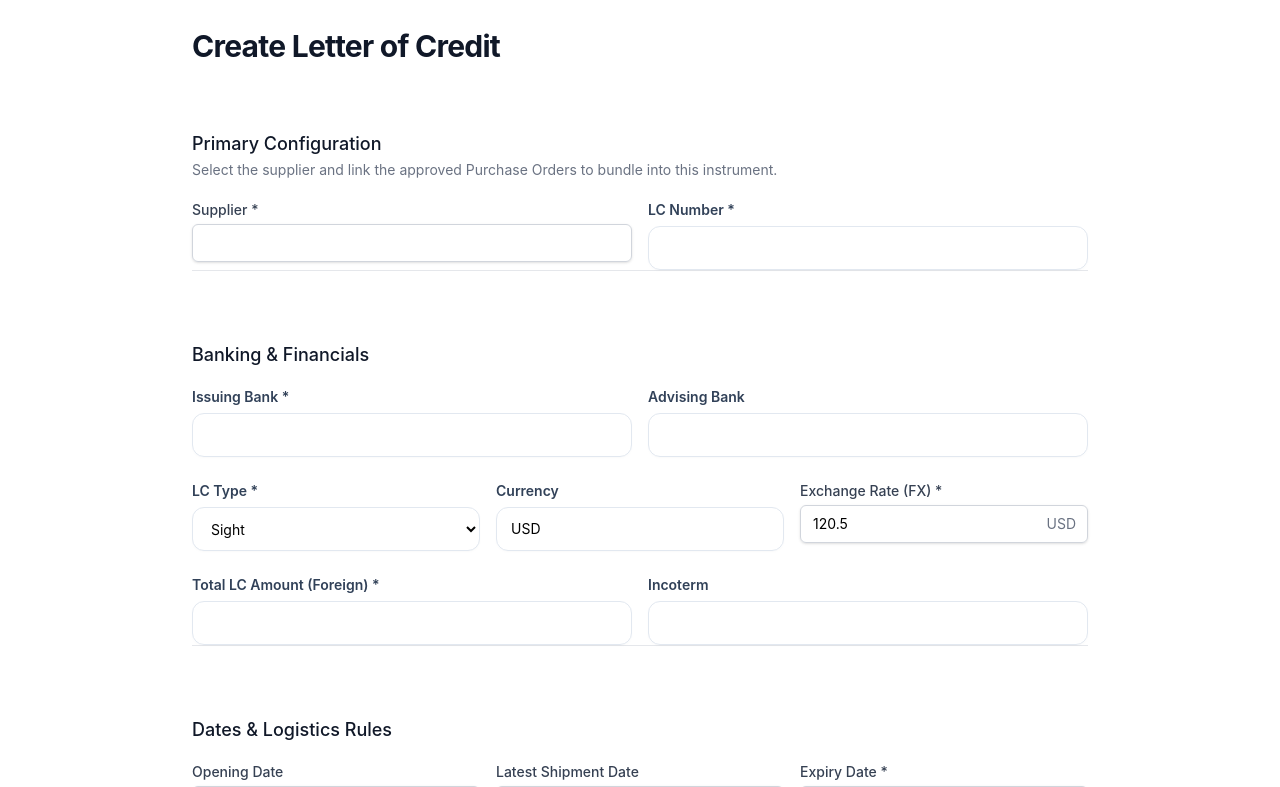
it: LetterOfCreditForm › keeps a single selected PO as an array and calculates its amount
Type "sup-1" into the field labelled "Supplier *" at {"x": 412, "y": 243}, box [192, 224, 632, 262]
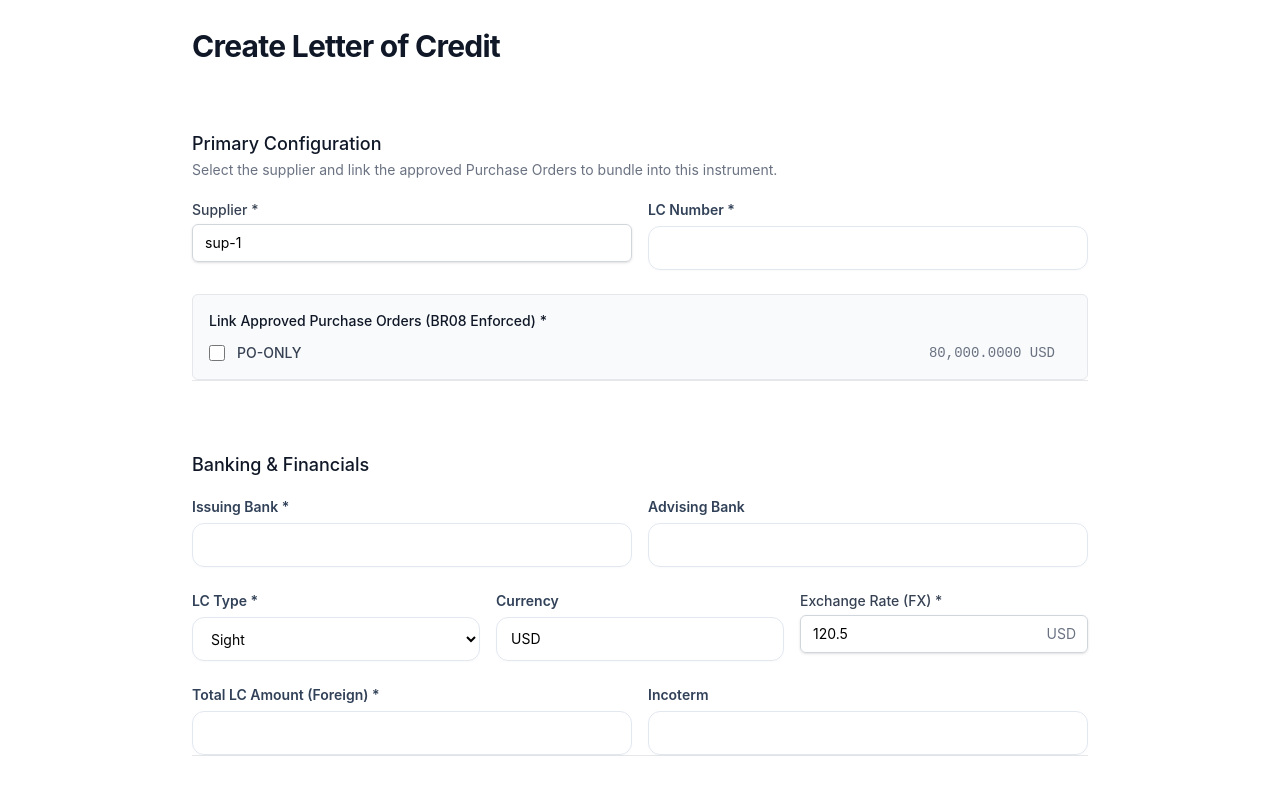
Now the text "PO-ONLY" is shown, box [237, 343, 302, 363]
Click the checkbox at {"x": 217, "y": 353}, box [209, 345, 225, 361]
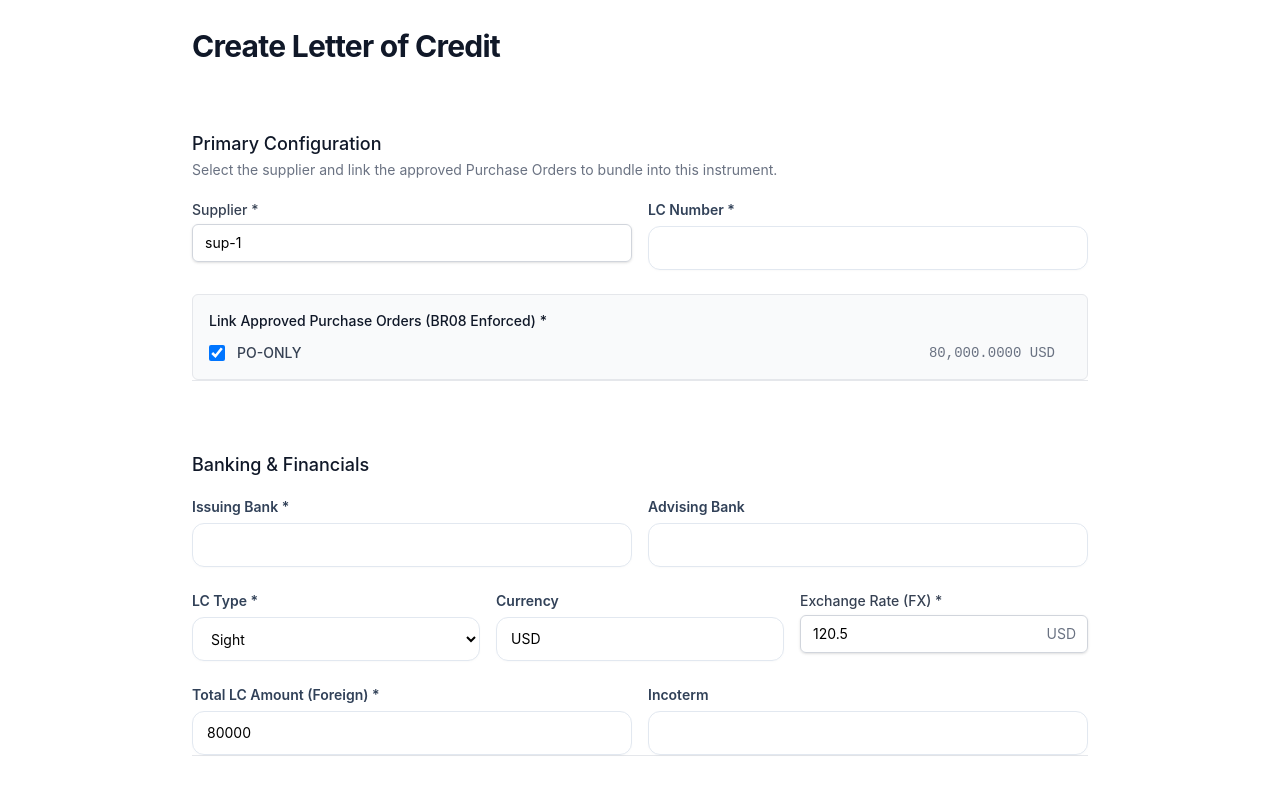
Now the number field labelled "Total LC Amount (Foreign) *" holds "80000", box [192, 711, 632, 755]
